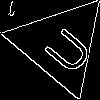U: (35, 19, 96, 77)
